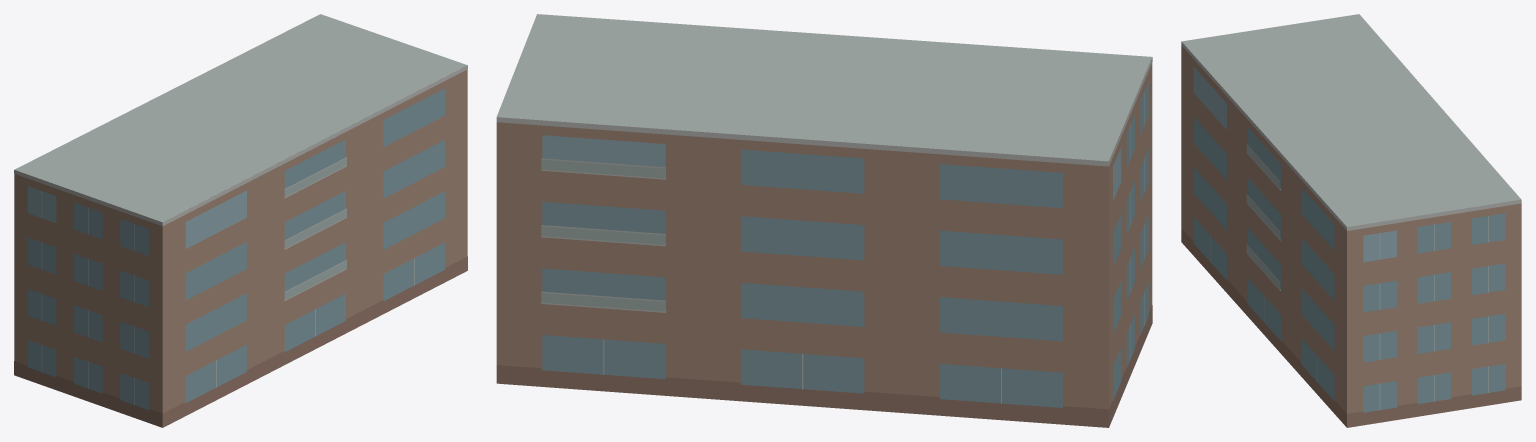
Rendered from survey-upis-32843856.glb.
The picture shows the model from 3 angles, left to right: view 1: azimuth 30°, elevation 25°; view 2: azimuth 150°, elevation 25°; view 3: azimuth 270°, elevation 25°; orthographic projection. The views are drawn at different scales.
Parts seen in each view (by area): view 1: survey-upis-32843856.tmp; view 2: survey-upis-32843856.tmp; view 3: survey-upis-32843856.tmp.
Part boxes in pixels (bbox=[...]): survey-upis-32843856.tmp: bbox=[14, 14, 467, 427]; survey-upis-32843856.tmp: bbox=[496, 14, 1152, 427]; survey-upis-32843856.tmp: bbox=[1181, 14, 1521, 427].
Bounding box in the file's own units: 28.94 × 12.7 × 19.51.
